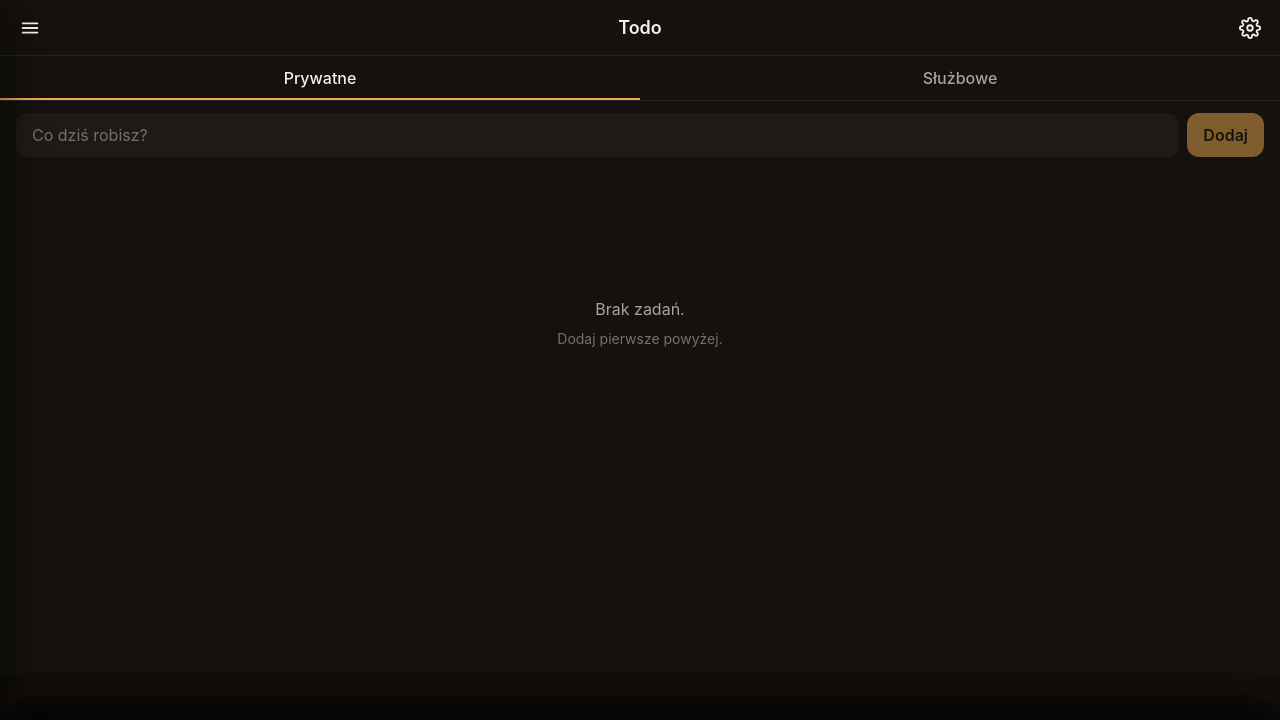
Scenario: MainList × real category repo end-to-end › renaming a category through the manage sheet updates the tab label
The image size is (1280, 720).
Expected: the tab "Prywatne" is shown, [0,56,640,100]
Click the button named "Otwórz menu" at (30, 28), box [8,6,52,50]
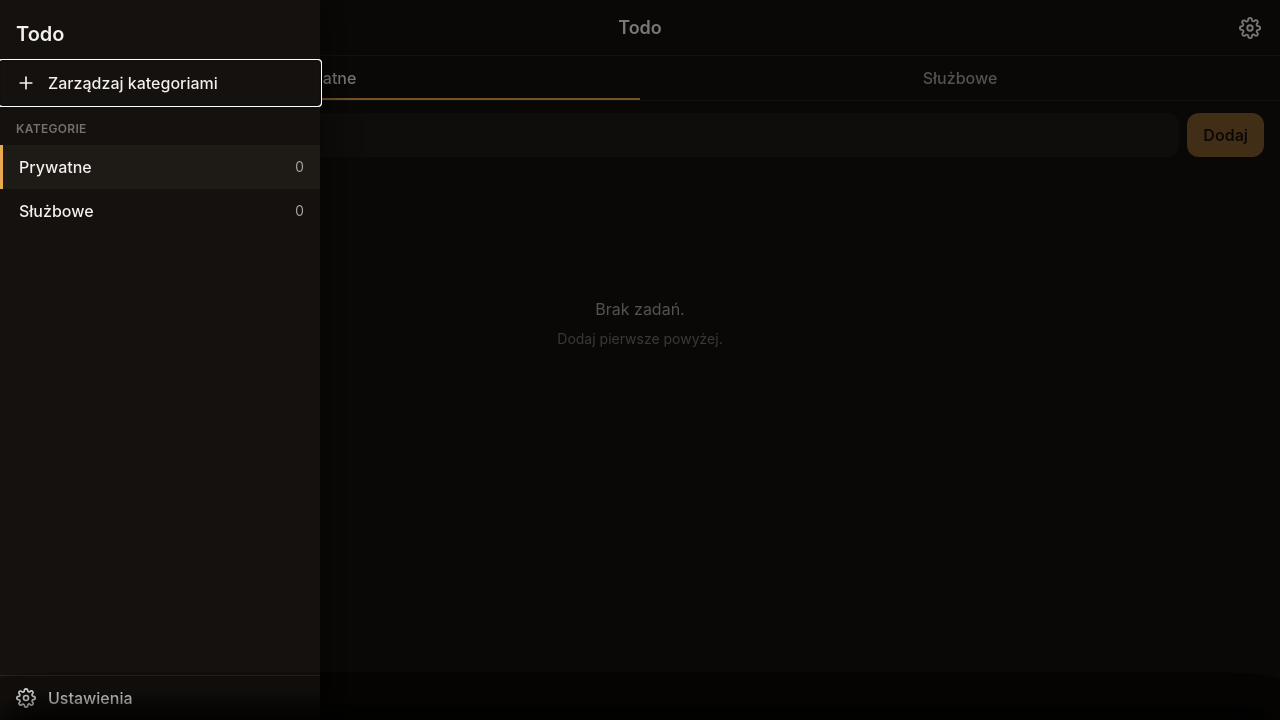
Click the button "Zarządzaj kategoriami" at (160, 83), box [0,61,320,105]
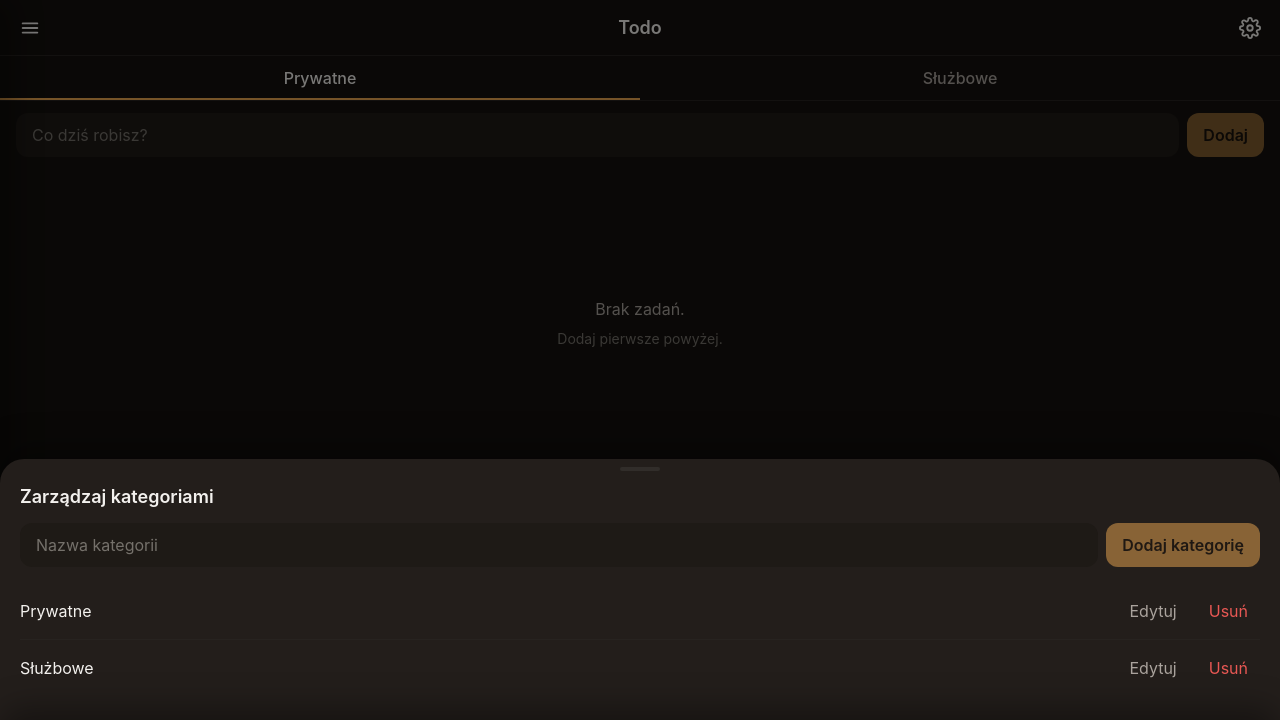
Click the 1st button "Edytuj" at (1153, 611), box [1117,591,1189,631]
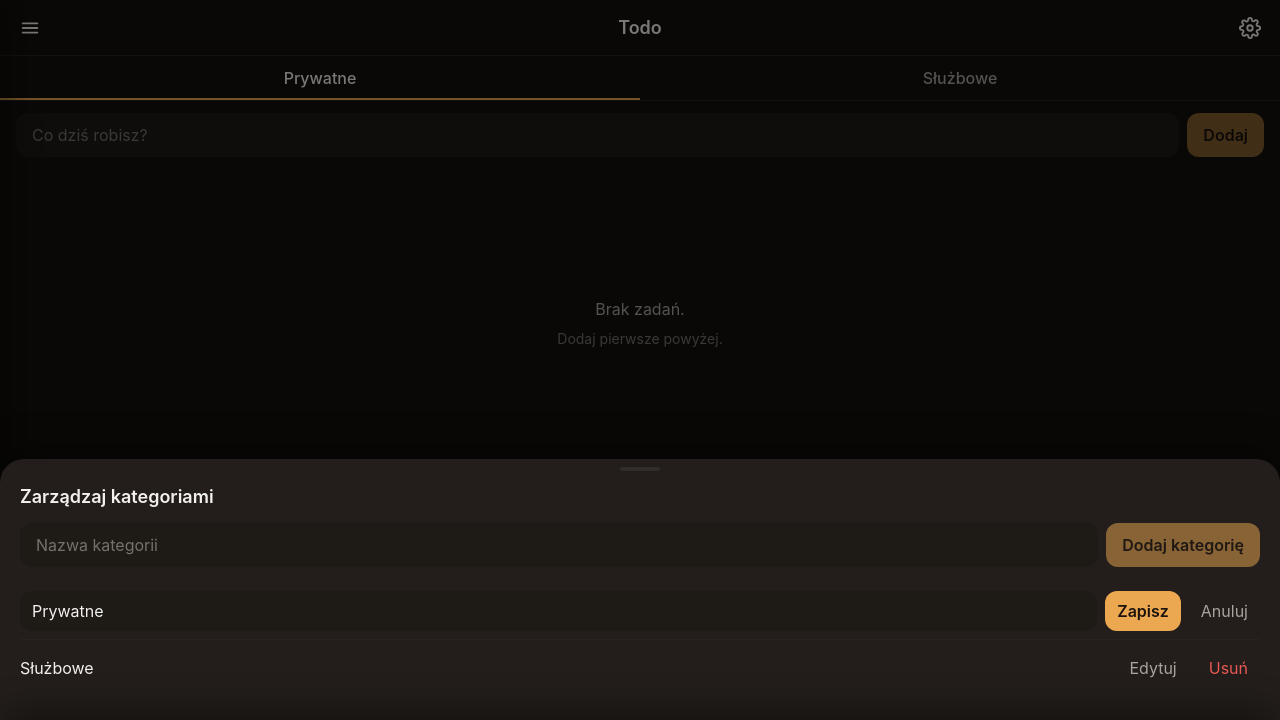
Replace the text in the field named "Zmień nazwę „Prywatne\"" with "Osobiste" at (559, 611), box [20,591,1097,631]
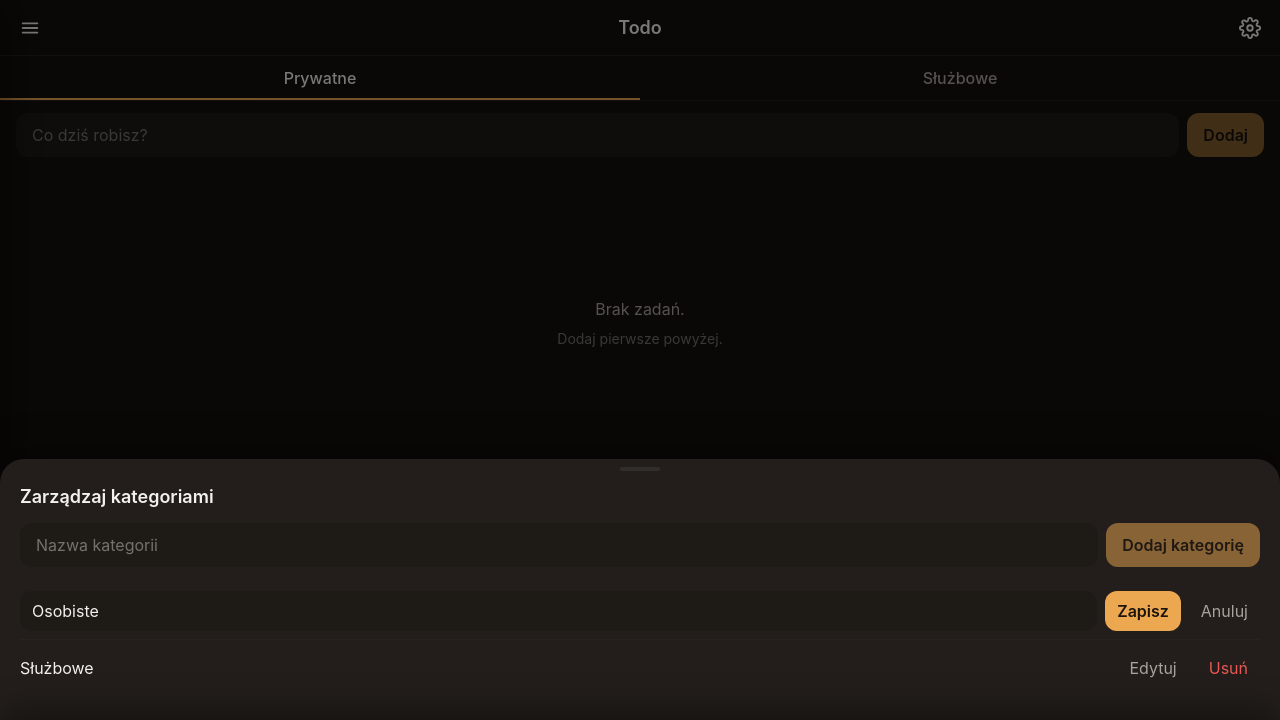
Press Enter in the field named "Zmień nazwę „Prywatne\"", box [20,591,1097,631]
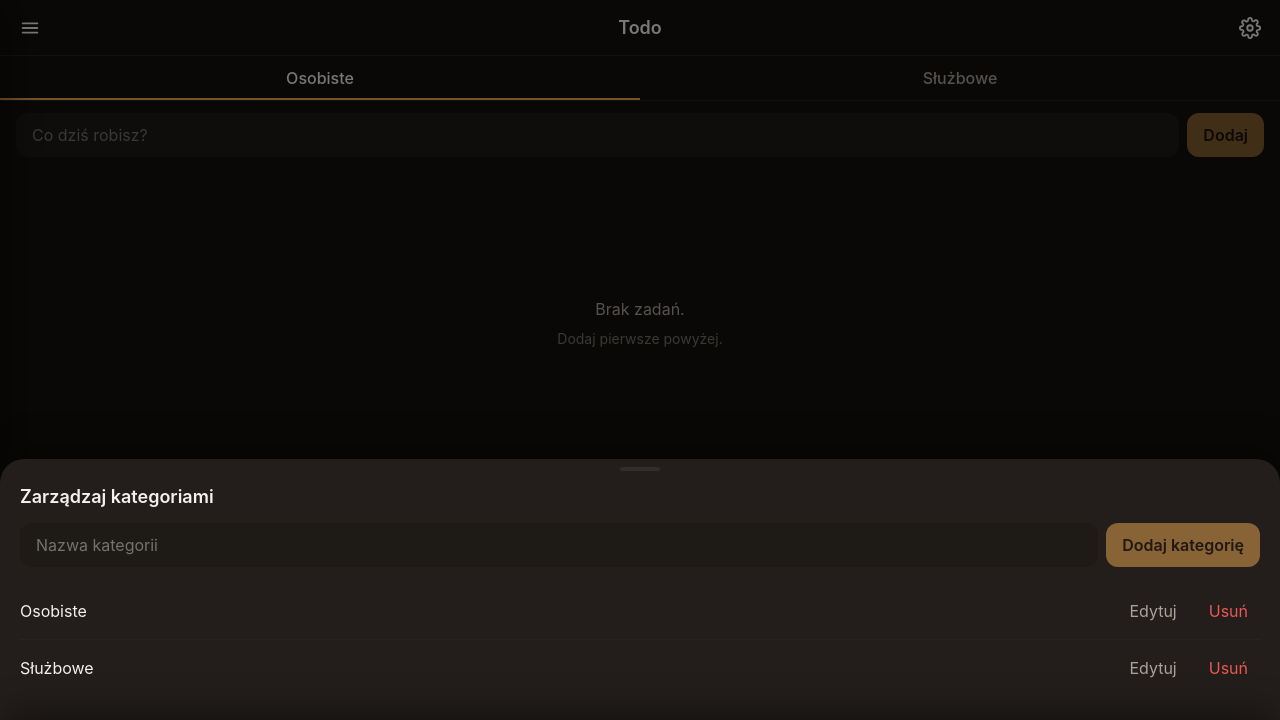
Now the tab "Osobiste" is shown, box [0,56,640,100]
Now the tab "Prywatne" is gone
